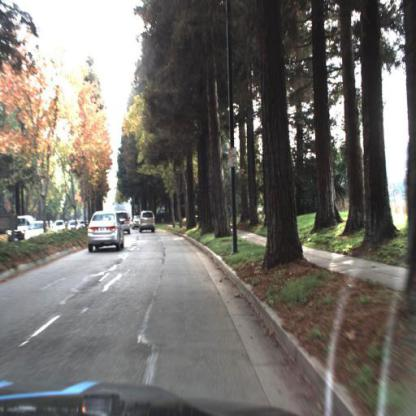car: (87, 209, 124, 255), (10, 217, 35, 242), (115, 210, 136, 237), (24, 221, 48, 244), (138, 209, 157, 237), (51, 218, 69, 236), (132, 212, 142, 234), (123, 212, 132, 235)
